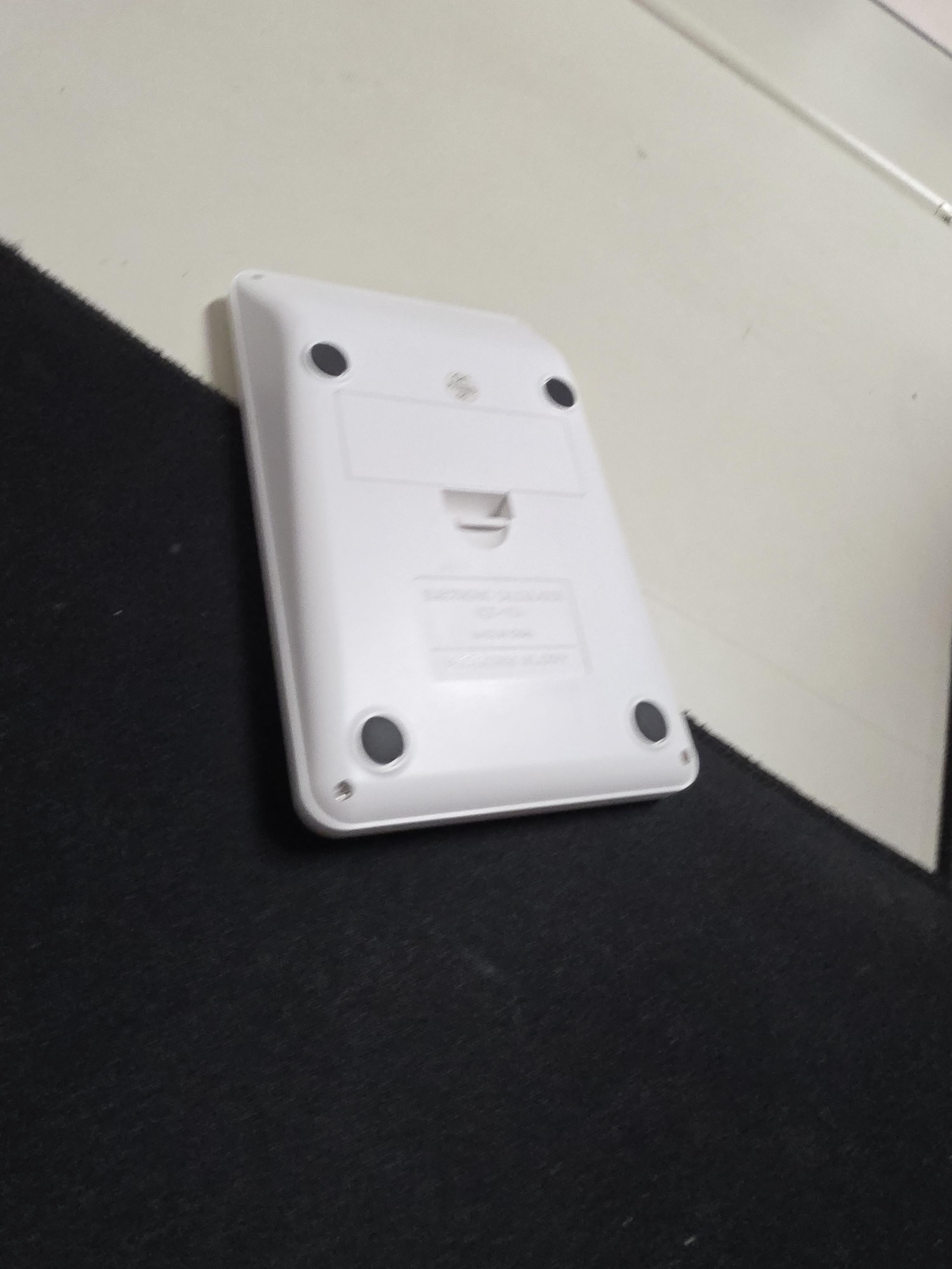calculator: (229, 266, 702, 841)
